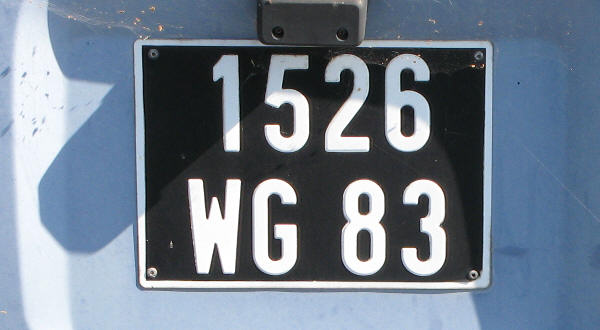license_plate: (132, 39, 494, 290)
